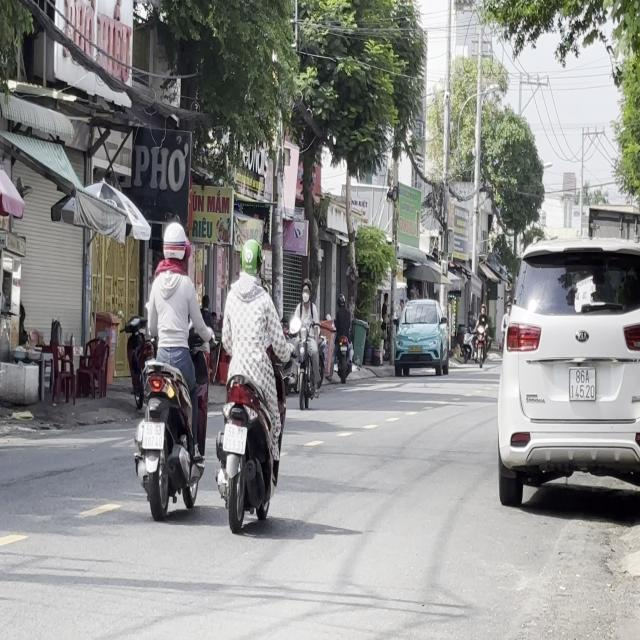helmet: (160, 220, 189, 270), (238, 237, 262, 278)
licenseplate: (130, 218, 211, 519), (214, 234, 288, 530)
nohelmet: (223, 424, 247, 453), (141, 421, 164, 449)
